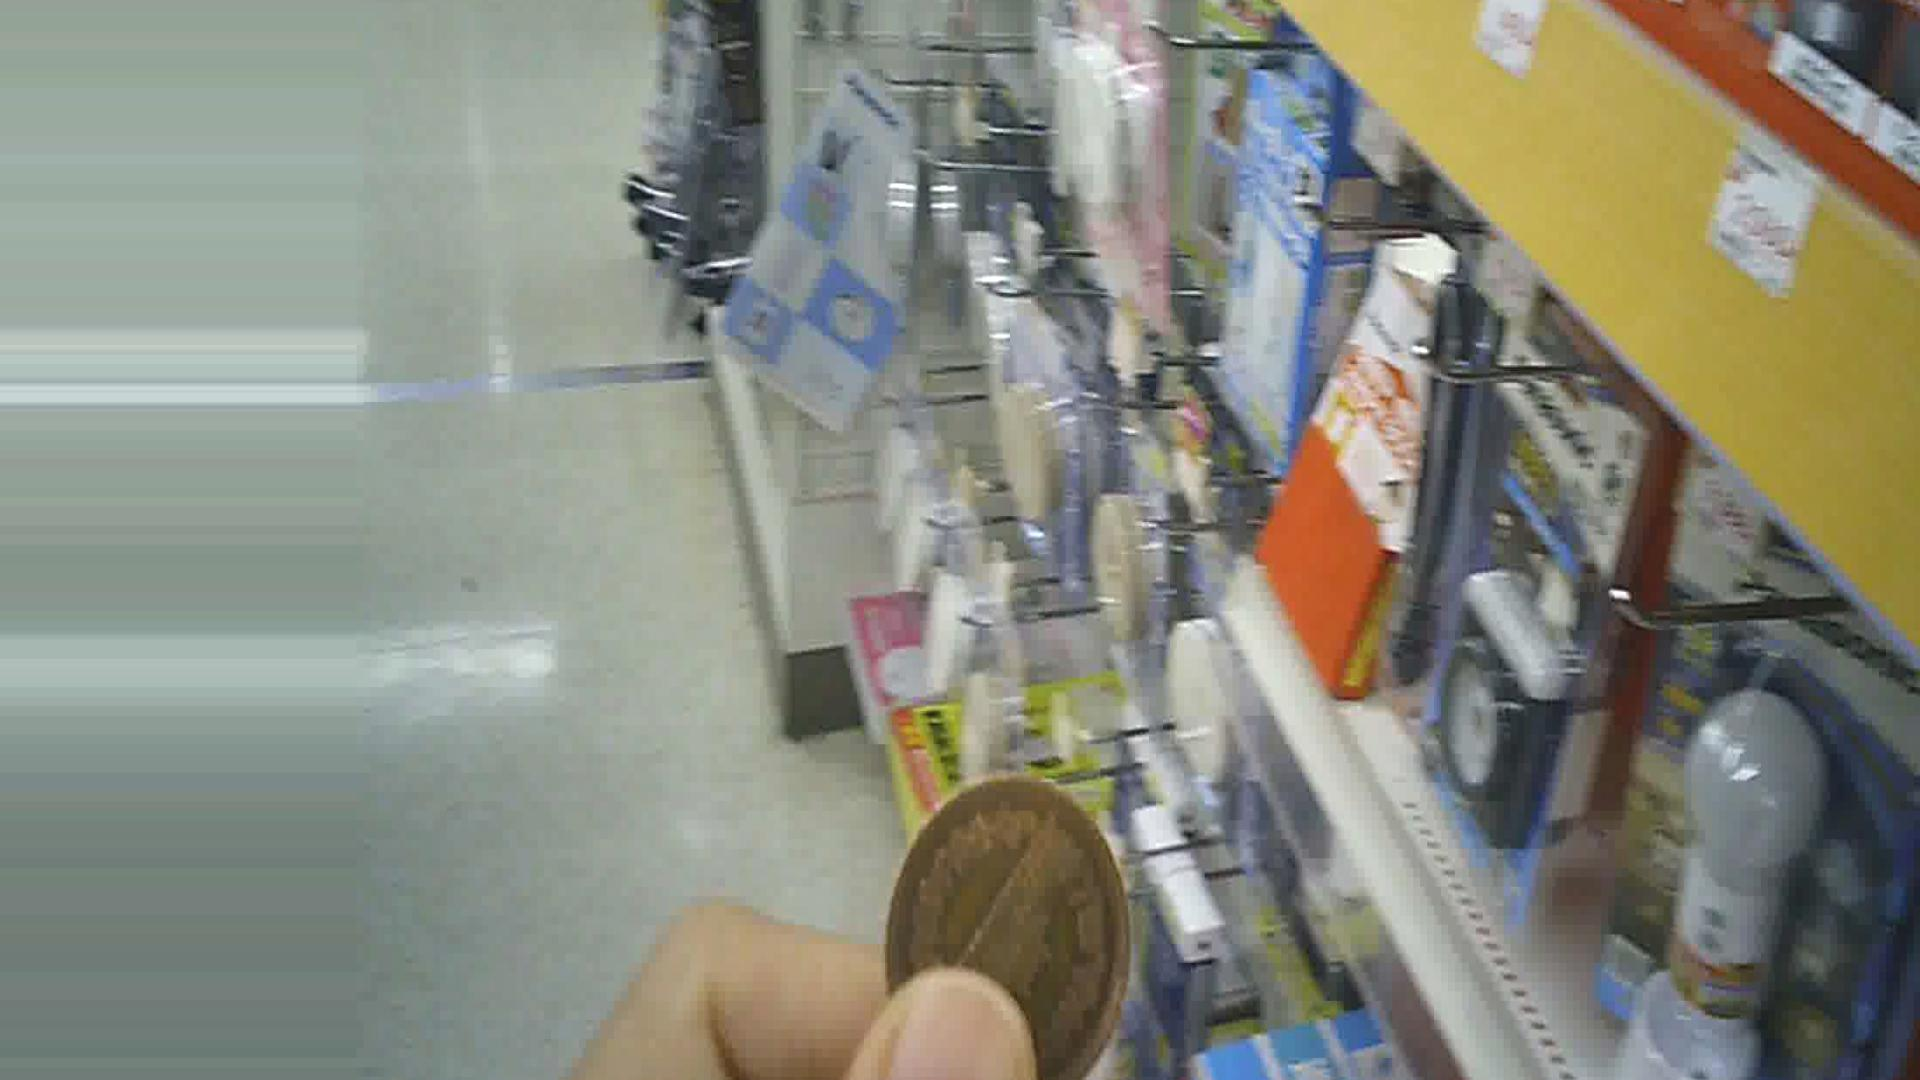10 Yen: (858, 764, 1142, 1077)
